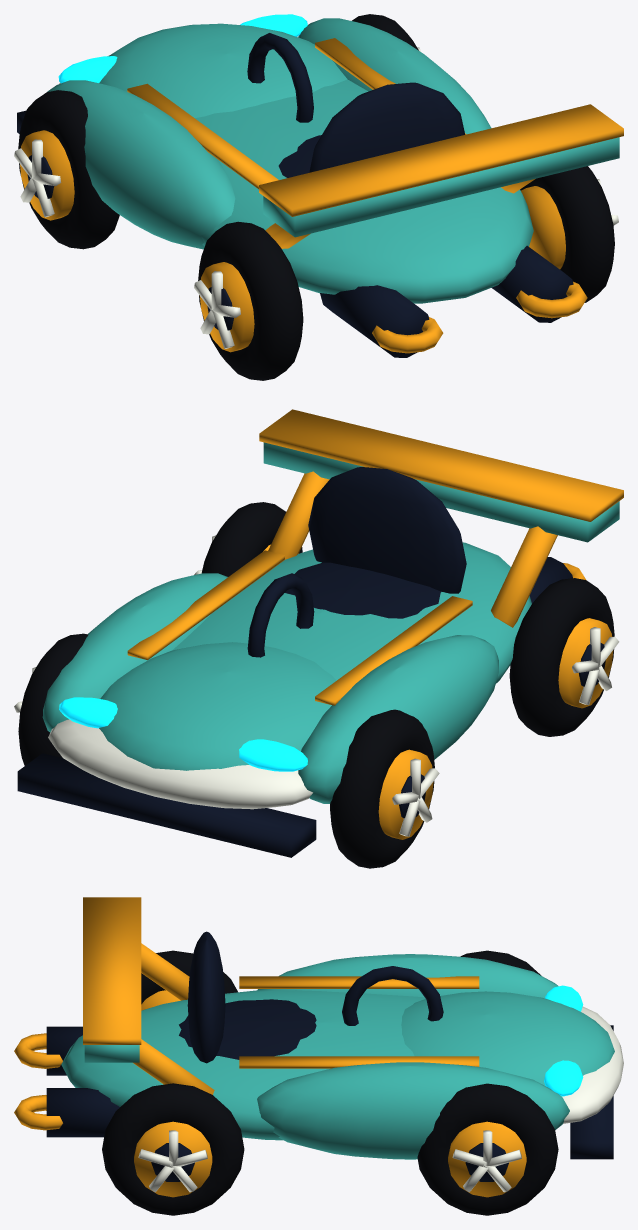
The model's file is kart_aqua.glb.
3 views of the same model, one above another, from view 1: azimuth 30°, elevation 25°; view 2: azimuth 150°, elevation 25°; view 3: azimuth 270°, elevation 25° (orthographic). The views are drawn at different scales.
Parts seen in each view (by area): view 1: body, wheel-back-left, wheel-front-left, wheel-back-right, wheel-front-right; view 2: body, wheel-back-left, wheel-front-left, wheel-back-right, wheel-front-right; view 3: body, wheel-back-right, wheel-front-right, wheel-back-left, wheel-front-left.
Boxes of the visible parts, box(x1,y1,x2,y2) form: body: box(17, 14, 623, 357); wheel-back-left: box(194, 221, 303, 380); wheel-front-left: box(14, 90, 119, 249); wheel-back-right: box(520, 166, 618, 302); wheel-front-right: box(352, 14, 420, 51); body: box(17, 409, 623, 857); wheel-back-left: box(509, 578, 619, 736); wheel-front-left: box(330, 709, 439, 868); wheel-back-right: box(194, 502, 302, 576); wheel-front-right: box(14, 633, 88, 765); body: box(14, 897, 623, 1159); wheel-back-right: box(102, 1083, 244, 1215); wheel-front-right: box(417, 1083, 558, 1215); wheel-back-left: box(141, 950, 237, 1010); wheel-front-left: box(460, 950, 541, 975).
Size of the model in its own units: 2.69 by 1.58 by 4.19.
